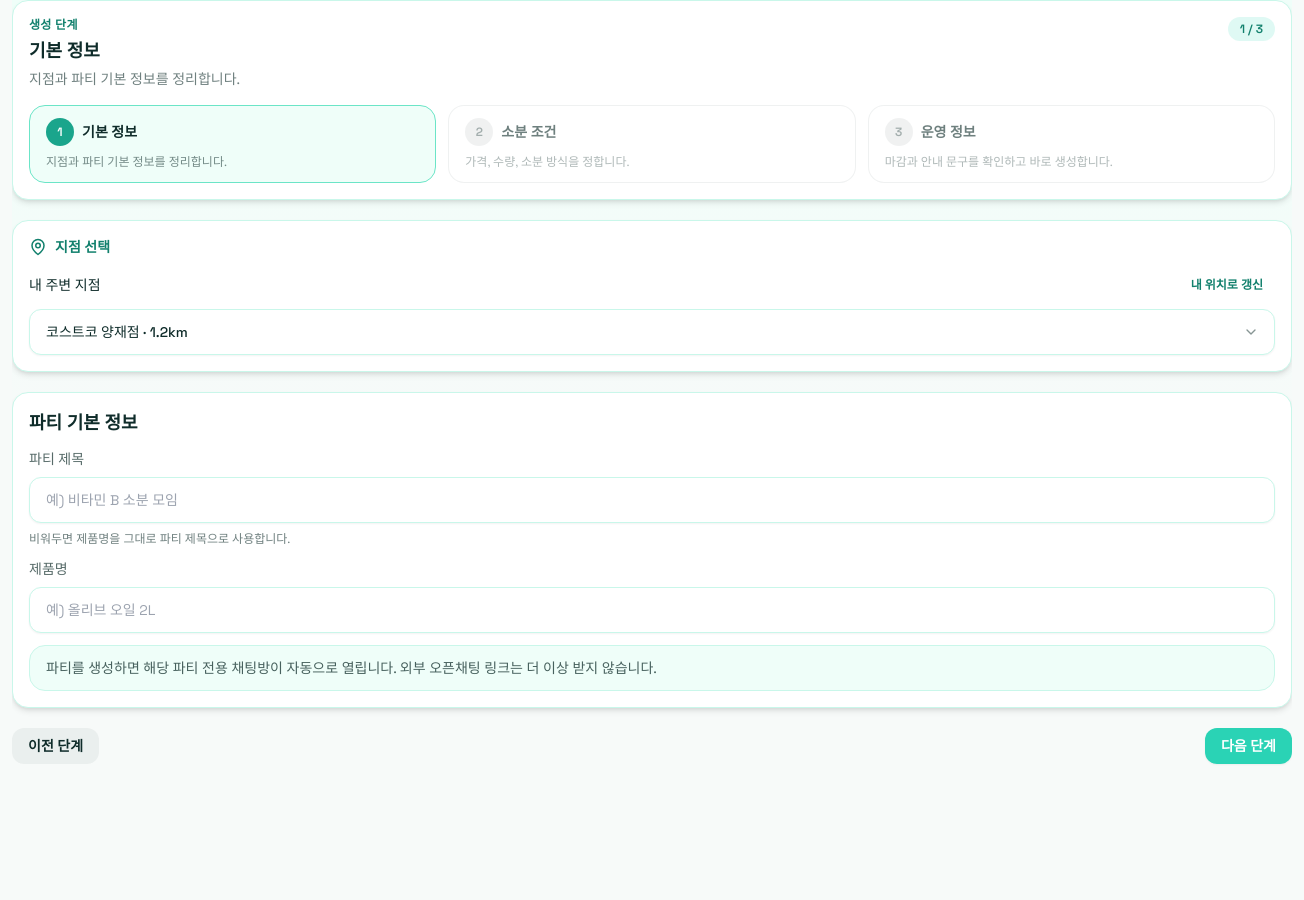
Test case: CreateParty › 기본_정보가_없으면_다음_단계로_이동하지_않는다
The image size is (1304, 900).
Expected: the heading "파티 기본 정보" is shown, [29,411,138,434]
Click the button "다음 단계".
click(1248, 746)  # box [1205,728,1292,764]
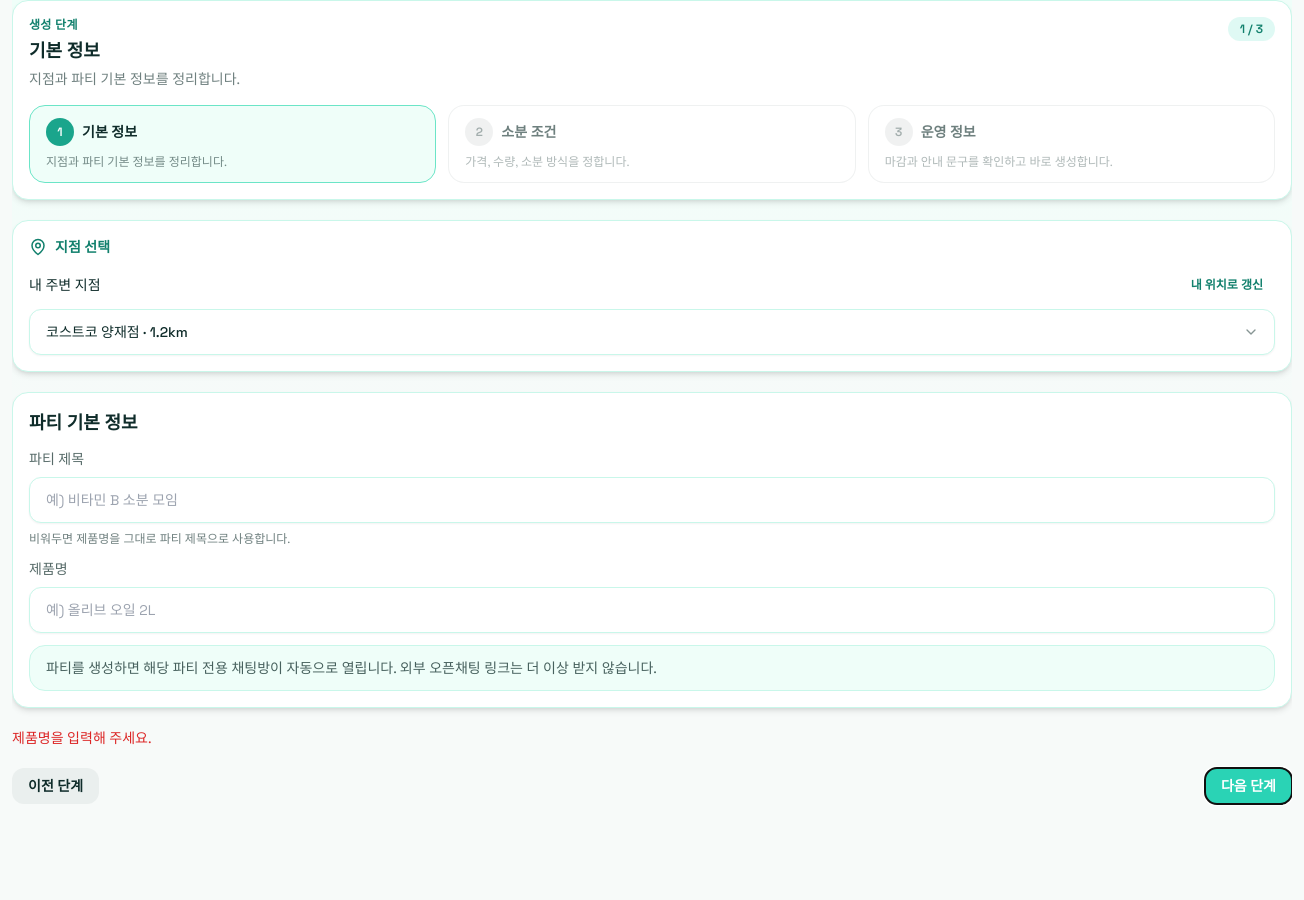
Expected: the heading "파티 기본 정보" is shown, [29,411,138,434]
Result: the text "제품명을 입력해 주세요." is shown at [12,729,152,747]
